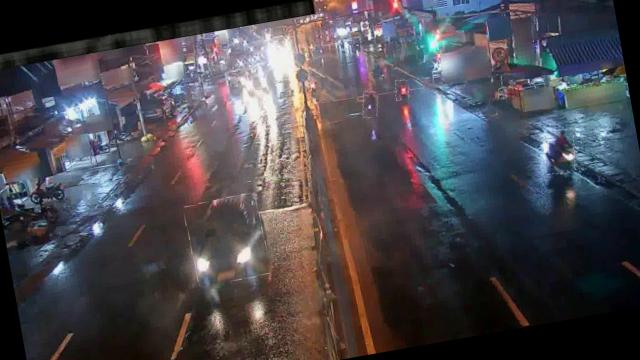Bike: (540, 126, 579, 176), (360, 90, 380, 118), (394, 78, 410, 100)
Car: (184, 192, 270, 286)
